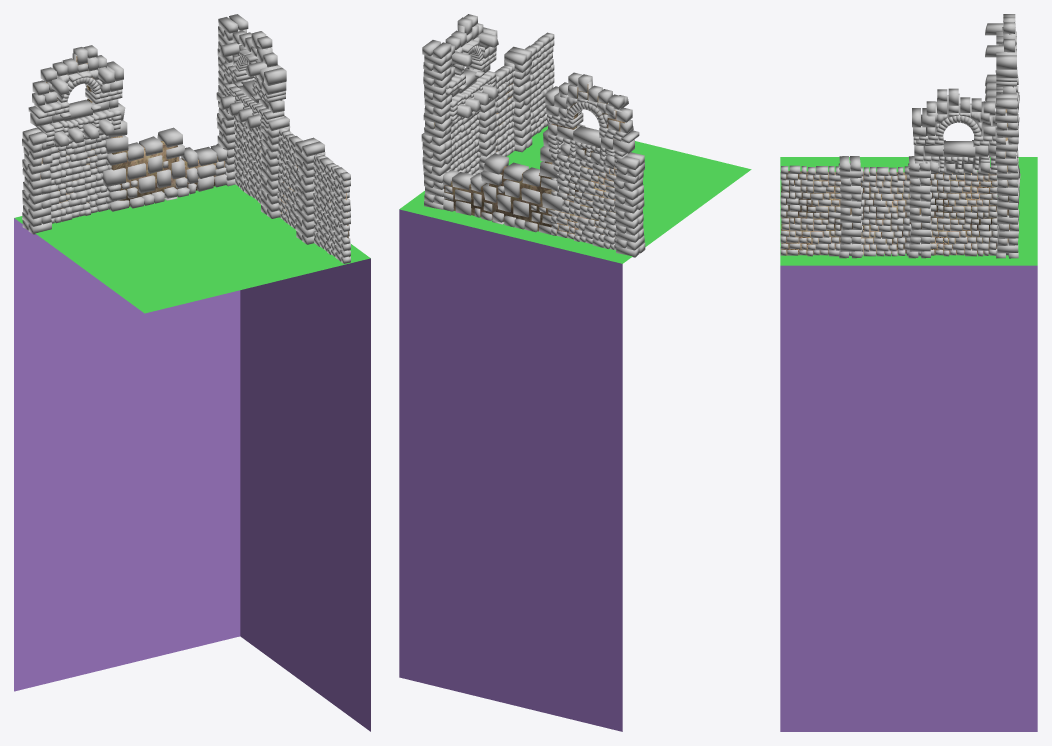
Rendered from RoomCornder_5.Lod2.fbx.
3 views of the same model, side by side, from view 1: azimuth 30°, elevation 25°; view 2: azimuth 150°, elevation 25°; view 3: azimuth 270°, elevation 25° (orthographic).
Parts seen in each view (by area): view 1: RoomCornder_5.Lod2; view 2: RoomCornder_5.Lod2; view 3: RoomCornder_5.Lod2.
Part boxes in pixels (x1=…): RoomCornder_5.Lod2: x1=14, y1=14, x2=370, y2=731; RoomCornder_5.Lod2: x1=399, y1=14, x2=751, y2=731; RoomCornder_5.Lod2: x1=780, y1=14, x2=1037, y2=731.
Bounding box in the file's own units: 405 × 1081 × 400.
